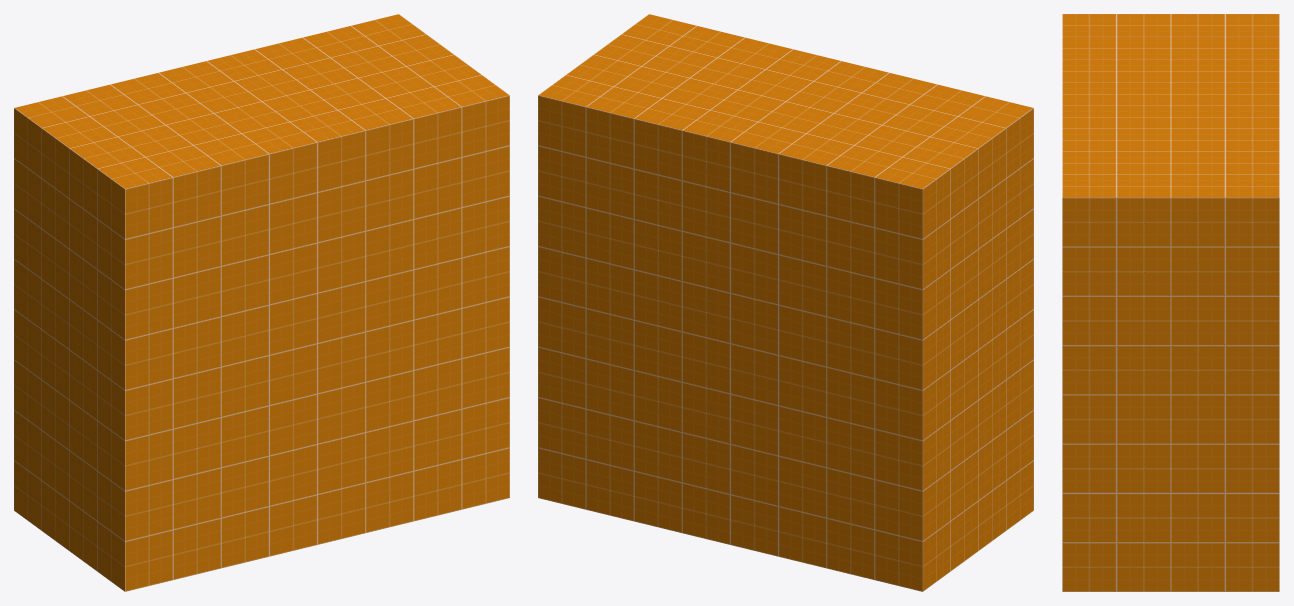
File: Block_8x4x8.obj
3 renders of one model, left to right at view 1: azimuth 30°, elevation 25°; view 2: azimuth 150°, elevation 25°; view 3: azimuth 270°, elevation 25°, orthographic. The views are drawn at different scales.
Visible parts, largest first — view 1: Block_8x4x8_Cube.231; view 2: Block_8x4x8_Cube.231; view 3: Block_8x4x8_Cube.231.
Boxes of the visible parts, box(x1,y1,x2,y2) form: Block_8x4x8_Cube.231: box(14, 14, 509, 591); Block_8x4x8_Cube.231: box(538, 14, 1033, 591); Block_8x4x8_Cube.231: box(1062, 14, 1279, 591).
Size of the model in its own units: 8 by 8 by 4.
Materials: 1 (1 with a texture image).
